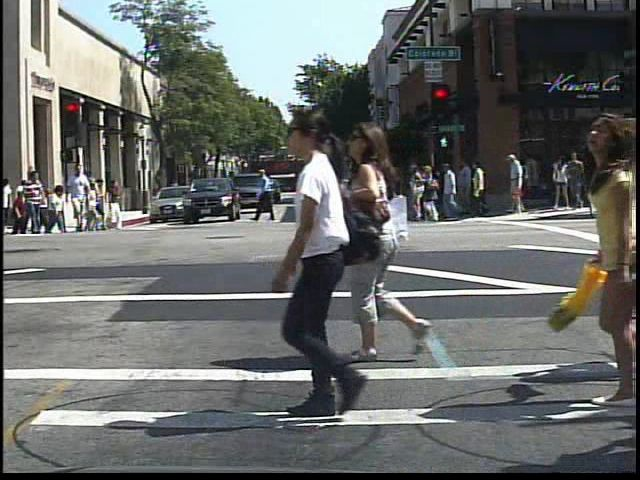person: (262, 103, 377, 422), (346, 119, 450, 366), (63, 161, 93, 234), (19, 169, 45, 237), (504, 150, 527, 216), (2, 173, 19, 236), (106, 175, 126, 214), (165, 173, 184, 206)
